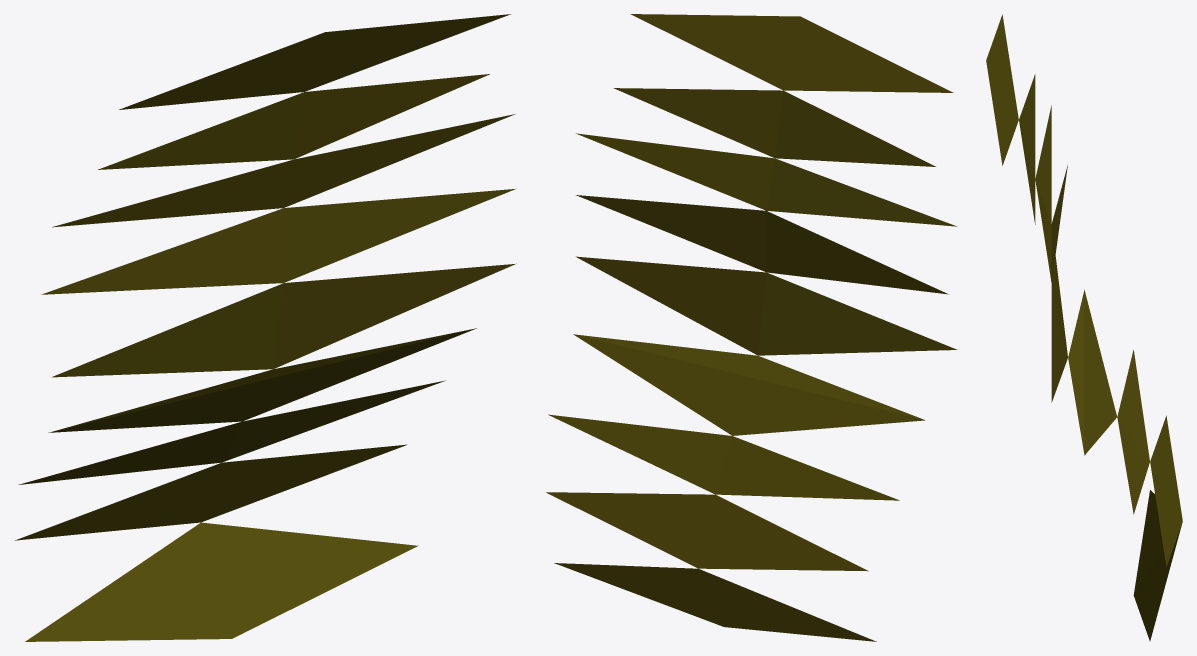
File: npc_world_shop_keeper_10_7.obj
The picture shows the model from 3 angles, left to right: view 1: azimuth 30°, elevation 25°; view 2: azimuth 150°, elevation 25°; view 3: azimuth 270°, elevation 25°; orthographic projection. The views are drawn at different scales.
Size of the model in its own units: 0.2031 by 0.2812 by 0.0938.
